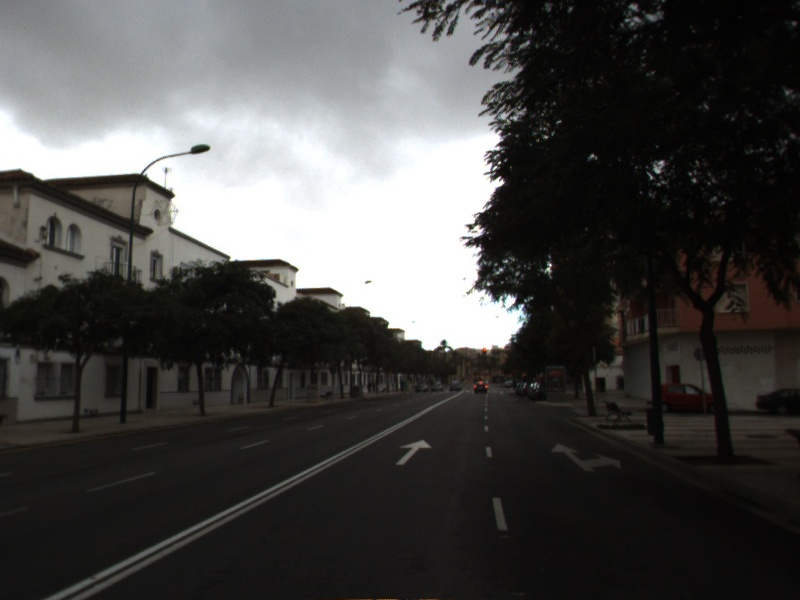STRAIGHT: (394, 438, 433, 466)
STRAIGHT_RIGHT: (550, 441, 623, 473)
